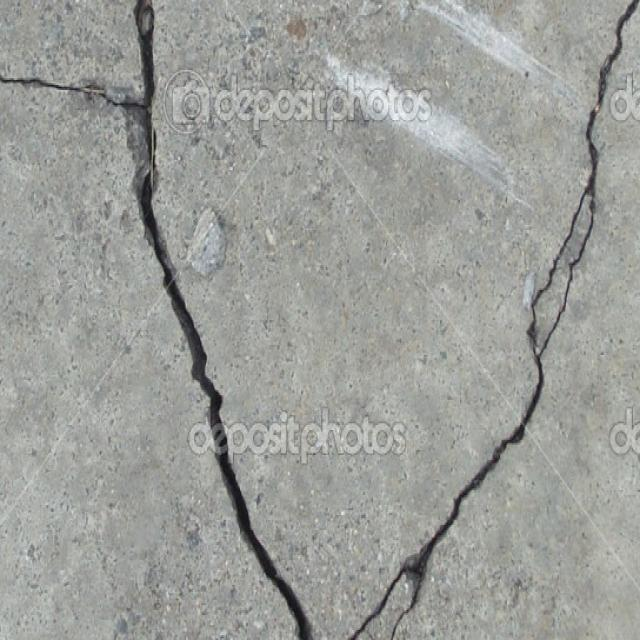crack: (349, 1, 639, 638), (122, 116, 319, 638), (0, 0, 158, 116)
